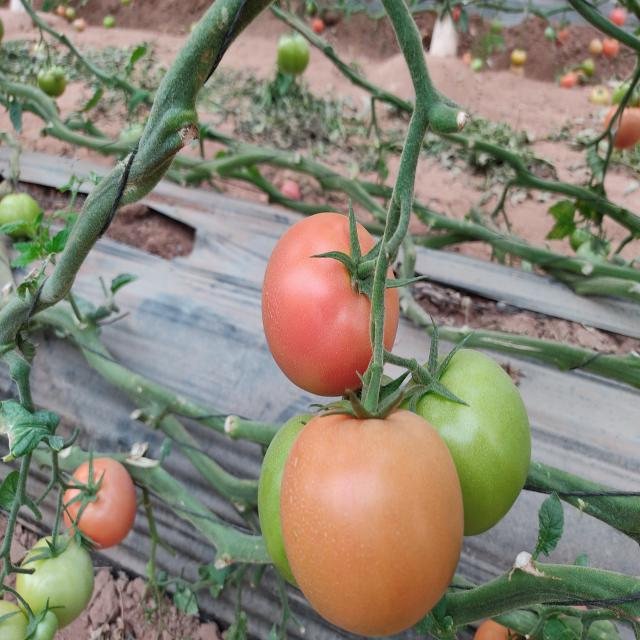Ripe Tomato: (280, 410, 466, 632), (263, 210, 402, 388), (68, 458, 136, 547)
Unripe Tomato: (396, 350, 534, 537), (18, 538, 88, 620)
